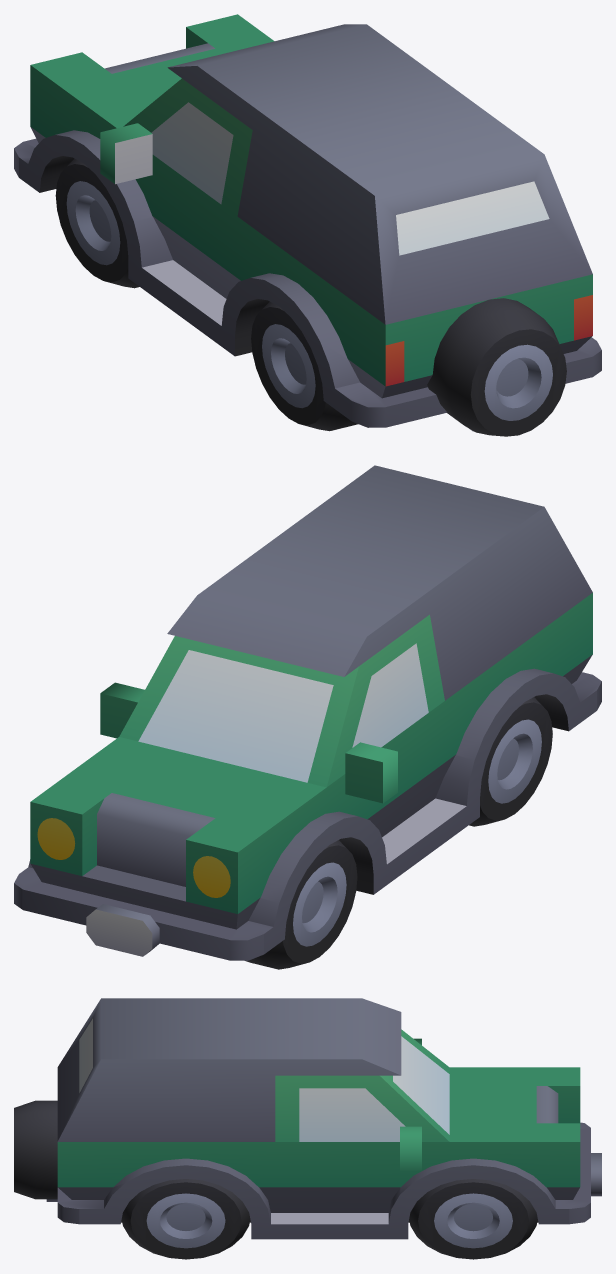
Rendered from kenney-suv.glb.
3 renders of one model, top to bottom at view 1: azimuth 30°, elevation 25°; view 2: azimuth 150°, elevation 25°; view 3: azimuth 270°, elevation 25°, orthographic. The views are drawn at different scales.
Visible parts, largest first — view 1: body, wheel-back, wheel-back-left, wheel-front-left; view 2: body, wheel-front-left, wheel-back-left; view 3: body, wheel-front-right, wheel-back-right, wheel-back.
Boxes of the visible parts, left/top/right/bottom form: body: left=14, top=14, right=601, bottom=431; wheel-back: left=427, top=298, right=566, bottom=436; wheel-back-left: left=251, top=302, right=358, bottom=431; wheel-front-left: left=55, top=158, right=139, bottom=288; body: left=14, top=465, right=601, bottom=960; wheel-front-left: left=246, top=840, right=357, bottom=969; wheel-back-left: left=469, top=697, right=552, bottom=826; body: left=46, top=998, right=601, bottom=1239; wheel-front-right: left=409, top=1179, right=537, bottom=1259; wheel-back-right: left=121, top=1179, right=250, bottom=1259; wheel-back: left=14, top=1100, right=57, bottom=1199.
Size of the model in its own units: 1.86 by 1.68 by 4.55.
